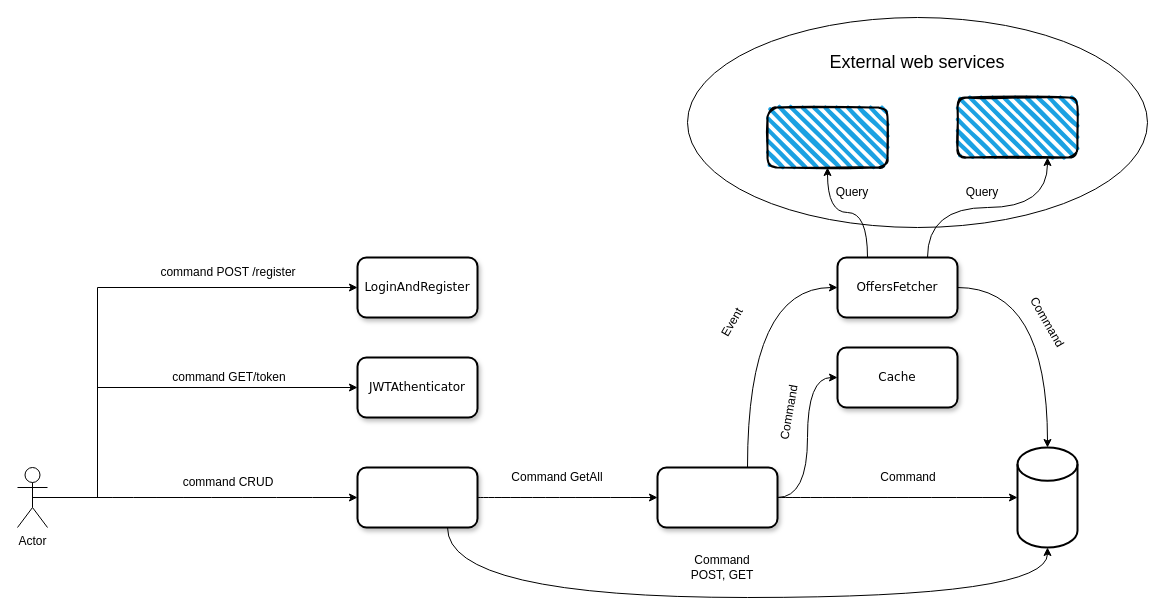
The diagram is 1165 pixels wide and 615 high, and some of its shapes have lost their labels. Here are the shapes that lost their labels. From the top down, the centre of each, then its label:
[418,498]: Offers
[718,498]: Scheduler
[1047,497]: DB
